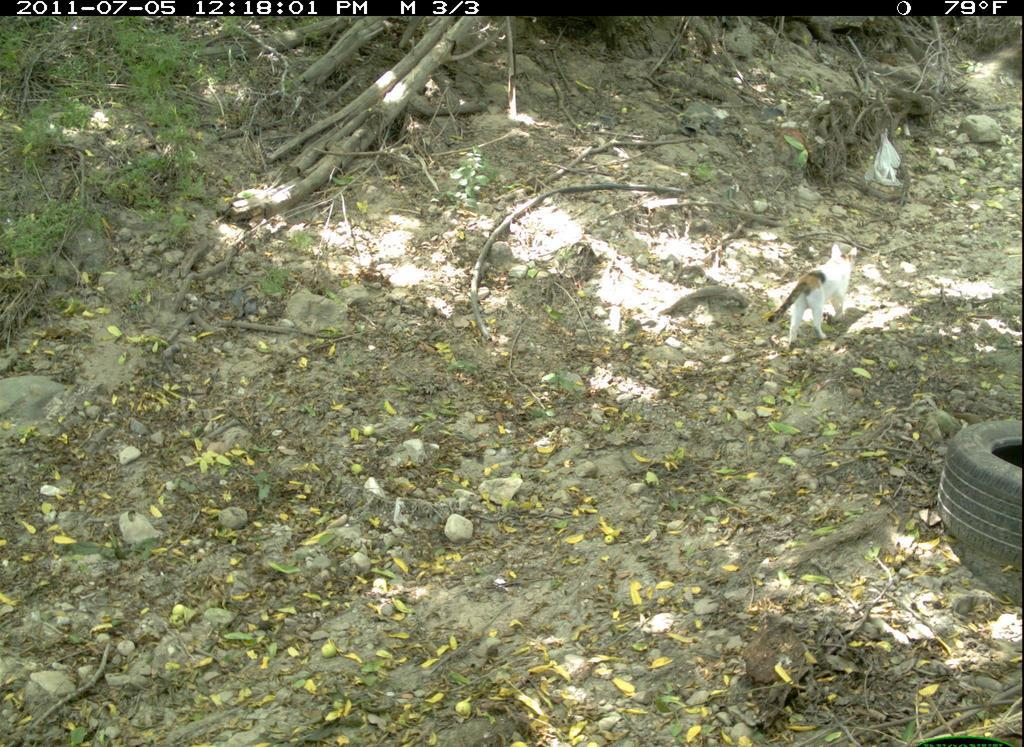cat: (766, 237, 866, 353)
